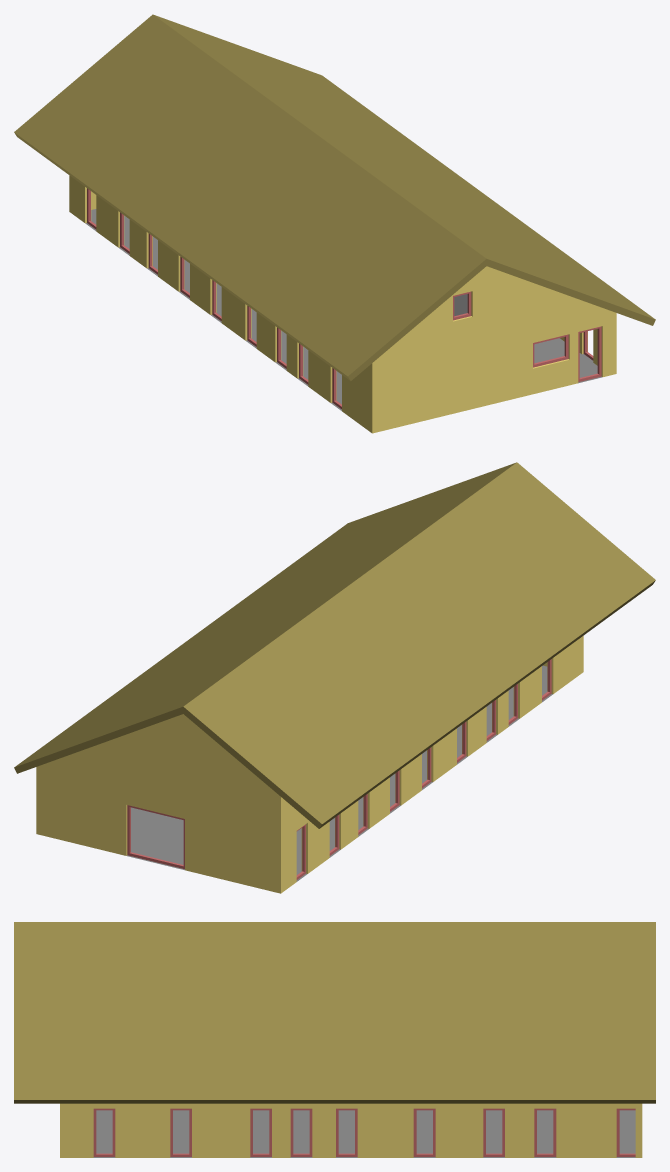
File: result.glb
3 renders of one model, top to bottom at view 1: azimuth 30°, elevation 25°; view 2: azimuth 150°, elevation 25°; view 3: azimuth 270°, elevation 25°, orthographic. The views are drawn at different scales.
Parts seen in each view (by area): view 1: 0f3ad432-b32b-4e72-abfd-e48938aa6d81__undefined (×2), af32a47c-3c2d-43fe-8c86-606c36e1ad42__undefined, 948a4be4-4a1a-43a1-a694-bc978798584c__Plane_40; view 2: 0f3ad432-b32b-4e72-abfd-e48938aa6d81__undefined (×2), af32a47c-3c2d-43fe-8c86-606c36e1ad42__undefined, 948a4be4-4a1a-43a1-a694-bc978798584c__Plane_40, ffeb578f-9ced-4391-81ef-ee95b6495364__Box_9; view 3: 0f3ad432-b32b-4e72-abfd-e48938aa6d81__undefined, af32a47c-3c2d-43fe-8c86-606c36e1ad42__undefined, 948a4be4-4a1a-43a1-a694-bc978798584c__Plane_40, 00418c91-0569-4fa2-ada7-0d083d70a8d3__Box_66, a69bd990-0389-4206-ab05-c22f532260d4__Box_75, b76f01e9-155e-48fb-8df6-2b1b705aae9c__Box_81, dd11e00e-4a63-4650-ab09-d8a4bd809df6__Box_87, 43ea589a-30f6-4d18-8d9d-2c29ab649378__Box_69, f994256f-cdf0-44ed-bdda-569507b96b2d__Box_72, 5f7c2f6a-ca0b-49c8-b325-46458da055a2__Box_78, 38f9672e-915f-46aa-b85c-703d40b52543__Box_84.
Boxes of the visible parts, x1=… form: 0f3ad432-b32b-4e72-abfd-e48938aa6d81__undefined (×2): x1=14, y1=14, x2=655, y2=380; af32a47c-3c2d-43fe-8c86-606c36e1ad42__undefined: x1=69, y1=175, x2=616, y2=433; 948a4be4-4a1a-43a1-a694-bc978798584c__Plane_40: x1=85, y1=209, x2=601, y2=410; 0f3ad432-b32b-4e72-abfd-e48938aa6d81__undefined (×2): x1=14, y1=462, x2=655, y2=828; af32a47c-3c2d-43fe-8c86-606c36e1ad42__undefined: x1=36, y1=636, x2=583, y2=893; 948a4be4-4a1a-43a1-a694-bc978798584c__Plane_40: x1=126, y1=665, x2=552, y2=881; ffeb578f-9ced-4391-81ef-ee95b6495364__Box_9: x1=127, y1=805, x2=184, y2=869; 0f3ad432-b32b-4e72-abfd-e48938aa6d81__undefined: x1=14, y1=922, x2=655, y2=1103; af32a47c-3c2d-43fe-8c86-606c36e1ad42__undefined: x1=60, y1=1103, x2=642, y2=1157; 948a4be4-4a1a-43a1-a694-bc978798584c__Plane_40: x1=93, y1=1110, x2=635, y2=1157; 00418c91-0569-4fa2-ada7-0d083d70a8d3__Box_66: x1=93, y1=1108, x2=115, y2=1156; a69bd990-0389-4206-ab05-c22f532260d4__Box_75: x1=290, y1=1108, x2=312, y2=1156; b76f01e9-155e-48fb-8df6-2b1b705aae9c__Box_81: x1=413, y1=1108, x2=435, y2=1156; dd11e00e-4a63-4650-ab09-d8a4bd809df6__Box_87: x1=534, y1=1108, x2=556, y2=1156; 43ea589a-30f6-4d18-8d9d-2c29ab649378__Box_69: x1=170, y1=1108, x2=191, y2=1156; f994256f-cdf0-44ed-bdda-569507b96b2d__Box_72: x1=250, y1=1108, x2=271, y2=1156; 5f7c2f6a-ca0b-49c8-b325-46458da055a2__Box_78: x1=336, y1=1108, x2=357, y2=1156; 38f9672e-915f-46aa-b85c-703d40b52543__Box_84: x1=483, y1=1108, x2=504, y2=1156.
Bounding box in the file's own units: 1258 × 664 × 2360.
